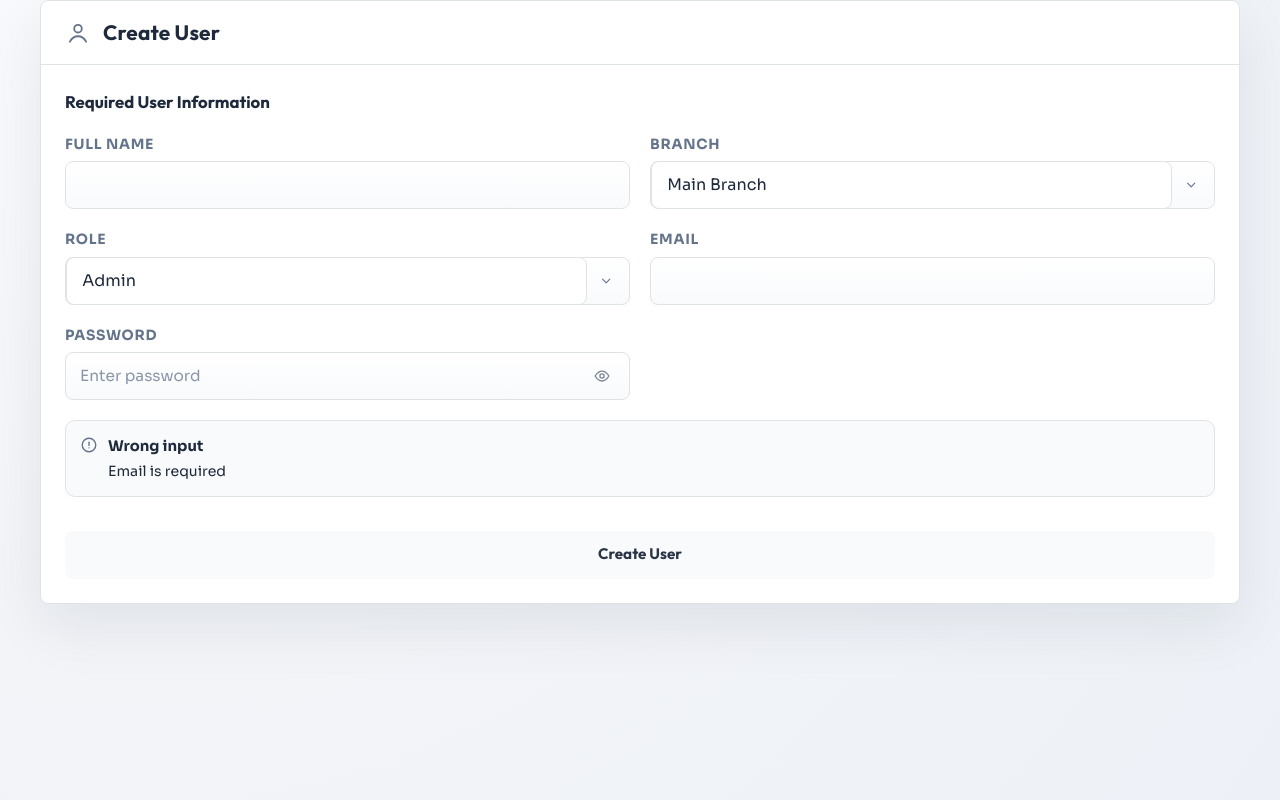
CraeteUsersPage › shows a password-specific validation error when the email is valid
Type "good.email@example.com" into the field labelled "Email".
click(932, 281); type("good.email@example.com")  # box [651, 258, 1214, 304]
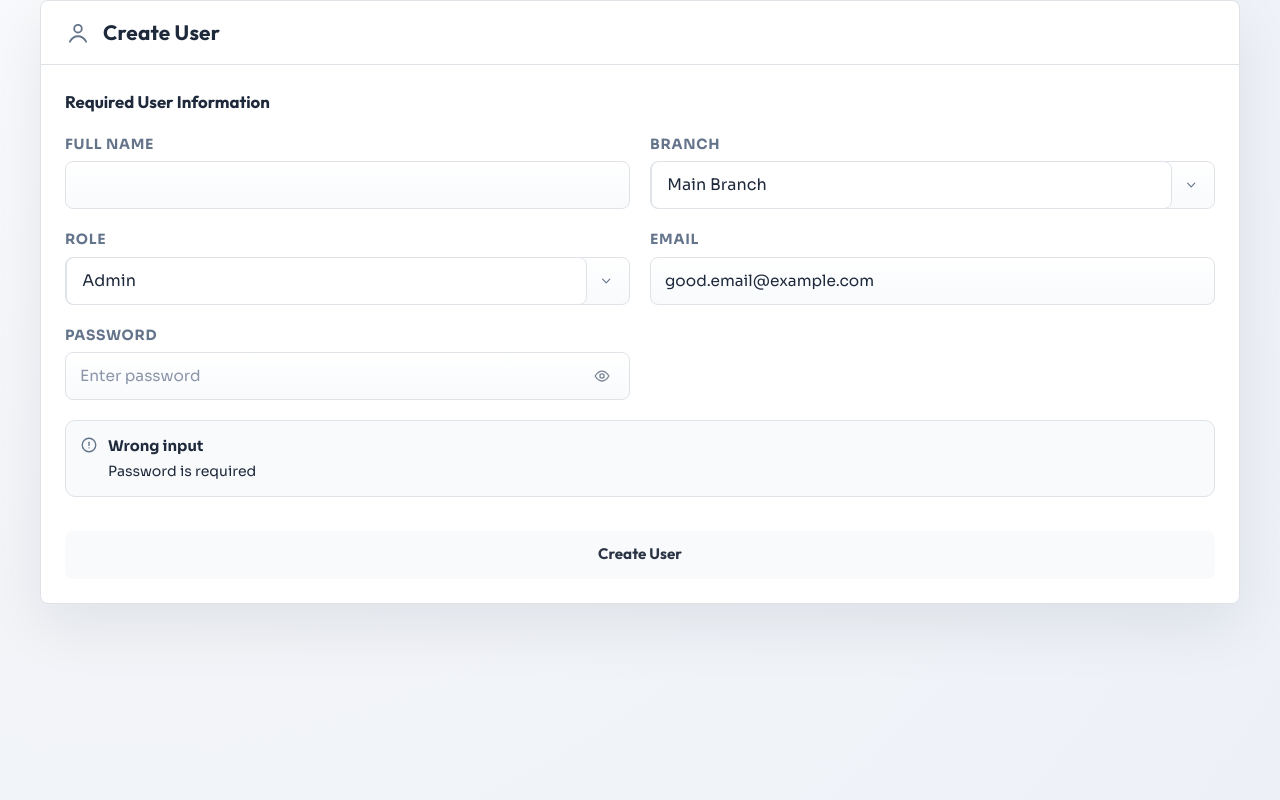
Type "123" into the password field with placeholder "Enter password".
click(348, 376); type("123")  # box [66, 353, 629, 399]
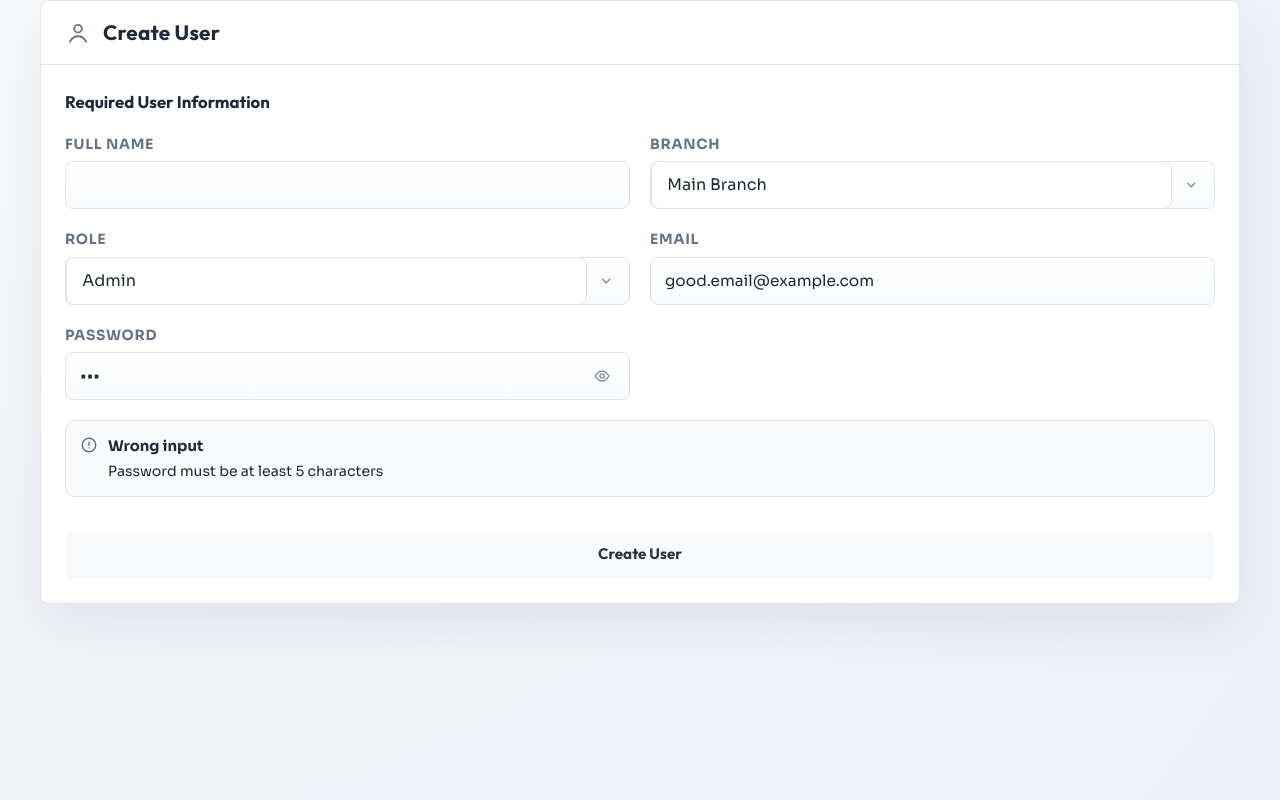
expect the button "Create User" is disabled: met, box [65, 531, 1215, 579]
expect the text "Password must be at least 5 characters" is shown: met, box [108, 461, 383, 482]
